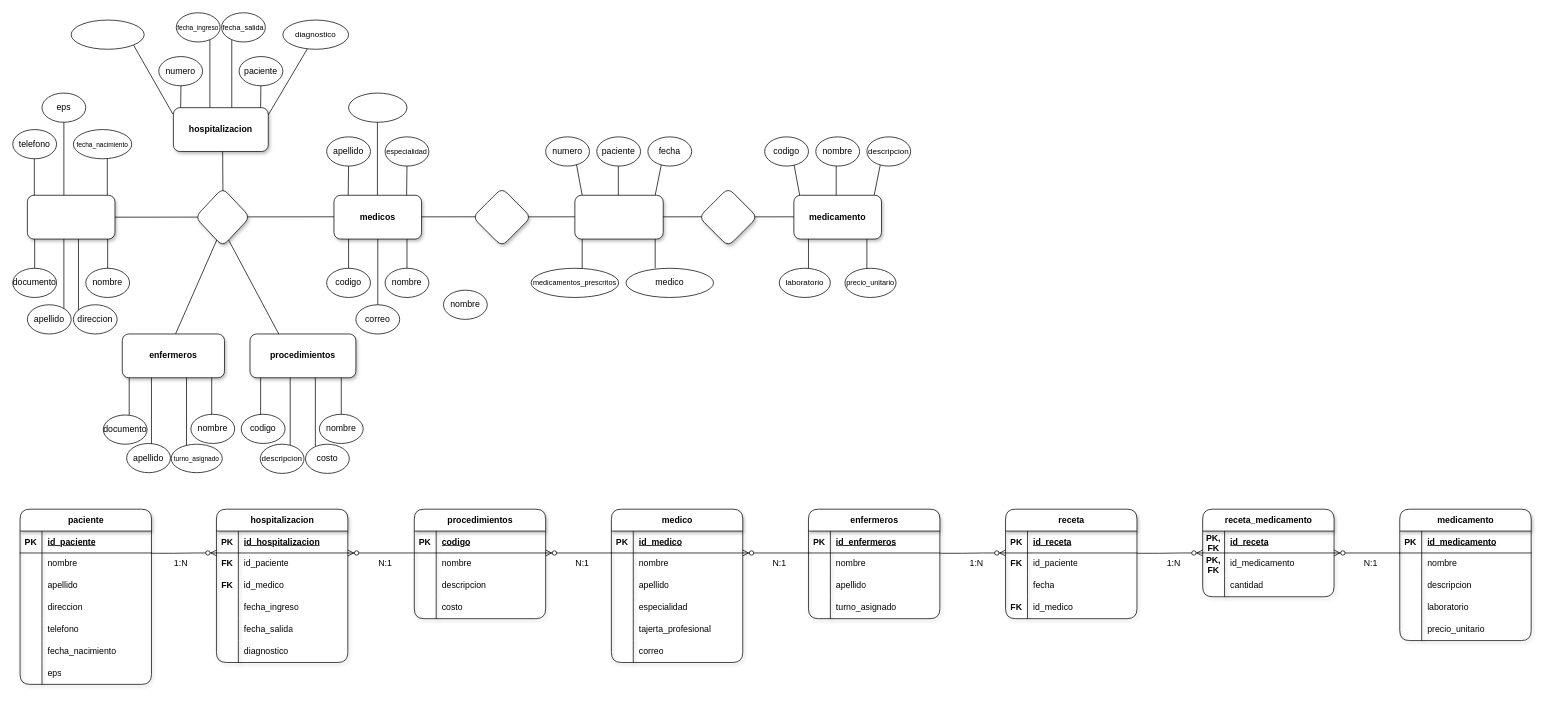
Image size: 1548x702. Some labels were removed from this diagram. The centre of each missing label's shape, as x and y in pixels:
atencion: the point at 223,217
contiene: the point at 728,217
genera: the point at 502,217
medico_responsable: the point at 107,34
pacientes: the point at 71,218
re ceta: the point at 619,218
tarjeta_profesional: the point at 377,107
